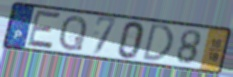0: (116, 20, 145, 60)
7: (88, 15, 118, 58)
8: (175, 30, 204, 66)
D: (140, 22, 175, 63)
E: (25, 9, 63, 51)
Q: (57, 14, 89, 53)
